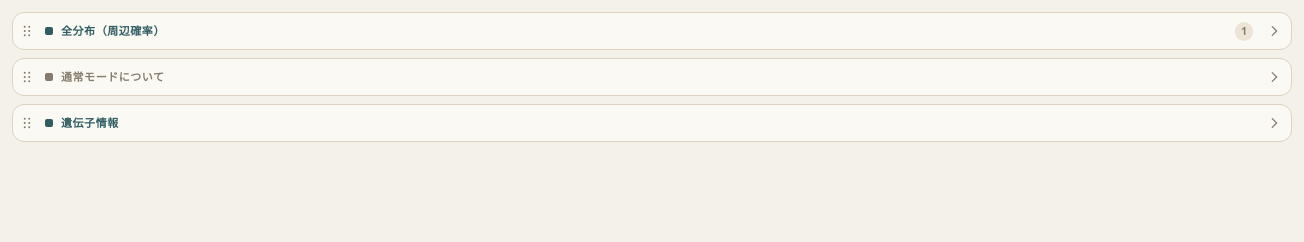
Test: ResultView full distribution › 白斑レベル (-White) は合算されず副次行で表示される
What coordinates should you click on to do the following:
click the button "全分布（周辺確率） 1"
I would click on:
 (113, 30)
Its box is [45,14,1291,48].
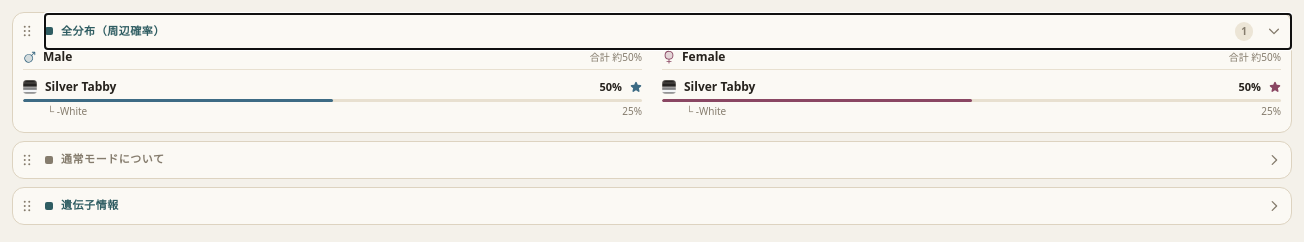
Result: the 1st text "└ -White" is shown at [47,104,87,118]
